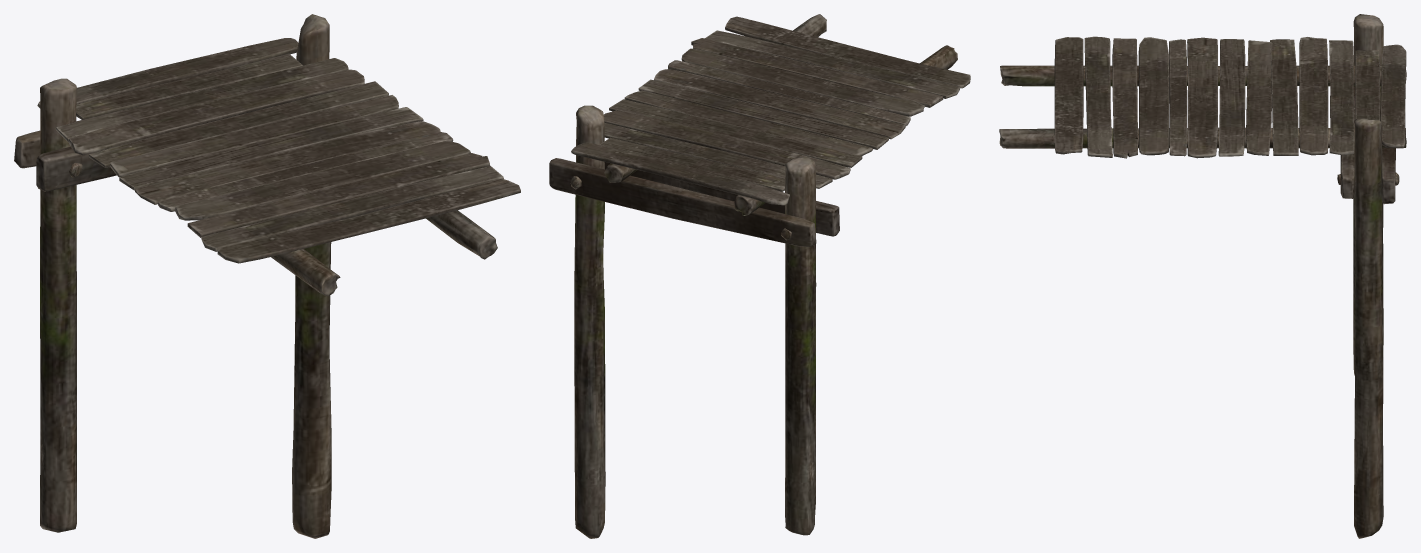
The picture shows the model from 3 angles, left to right: view 1: azimuth 30°, elevation 25°; view 2: azimuth 150°, elevation 25°; view 3: azimuth 270°, elevation 25°; orthographic projection. The views are drawn at different scales.
Visible parts, largest first — view 1: modular_wooden_pier_kit__d_lod1; view 2: modular_wooden_pier_kit__d_lod1; view 3: modular_wooden_pier_kit__d_lod1.
Part boxes in pixels (x1,y1,x2,y2): modular_wooden_pier_kit__d_lod1: (14,14,520,538); modular_wooden_pier_kit__d_lod1: (549,14,970,538); modular_wooden_pier_kit__d_lod1: (999,14,1406,538).
Bounding box in the file's own units: 2.49 × 3.83 × 3.39.
2 materials, 2 textured.
